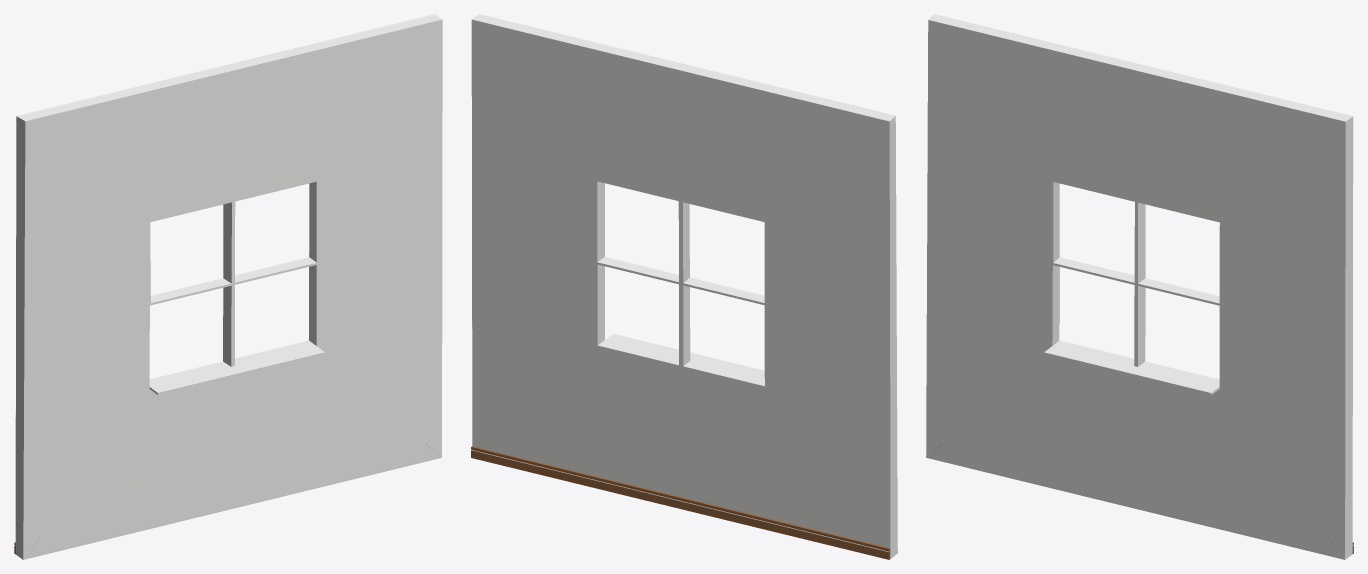
The model's file is window.glb.
The picture shows the model from 3 angles, left to right: view 1: azimuth 30°, elevation 25°; view 2: azimuth 150°, elevation 25°; view 3: azimuth 330°, elevation 25°; orthographic projection.
Parts seen in each view (by area): view 1: Plane; view 2: Plane; view 3: Plane.
Part boxes in pixels (x1,y1,x2,y2): Plane: (14,14,442,559); Plane: (471,14,897,559); Plane: (926,14,1353,559).
Bounding box in the file's own units: 2 × 2 × 0.1426.
1 material, 1 textured.
